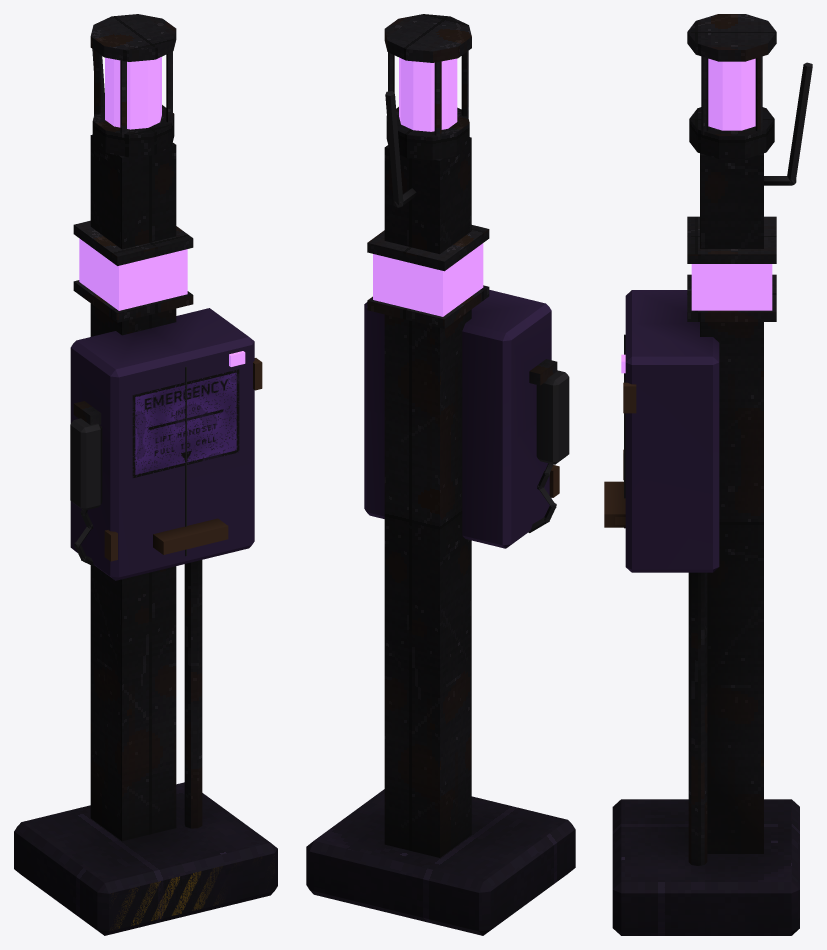
Rendered from emergency_pylon.glb.
The picture shows the model from 3 angles, left to right: view 1: azimuth 30°, elevation 25°; view 2: azimuth 150°, elevation 25°; view 3: azimuth 270°, elevation 25°; orthographic projection. The views are drawn at different scales.
Visible parts, largest first — view 1: body, decals; view 2: body; view 3: body.
Boxes of the visible parts, x1,y1,x2,y2 form: body: (14,14,277,935); decals: (110,369,239,929); body: (306,14,575,935); body: (604,14,812,935).
Size of what is drawn, in the model's own units: 0.515 by 2.24 by 0.4896.
Materials: 9 (5 with a texture image).
